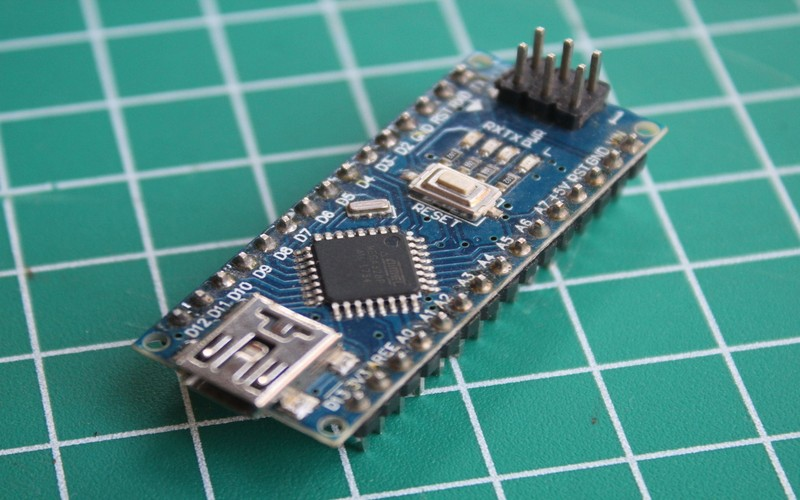Regulator: (115, 33, 675, 467)
